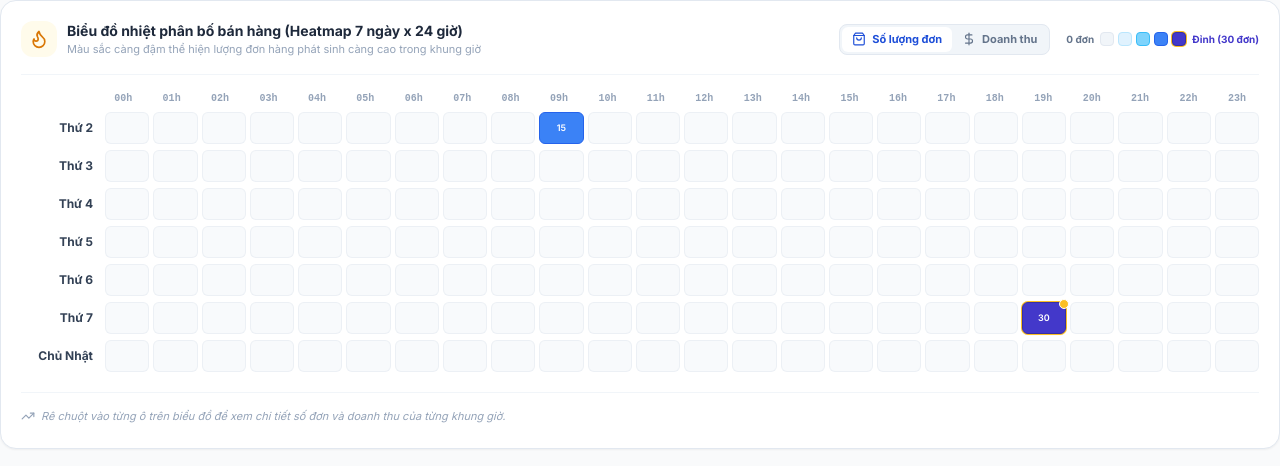
Test: NCL-18-CN-001: Peak Hours and Days Analytics Components › NCL-18-CN-001-TC-01: PeakHoursHeatmap switches between Orders and Revenue metrics
The width and height of the screenshot is (1280, 466).
Expected: the text "30" is shown, x1=1038 y1=311 x2=1050 y2=324
Expected: the text "15" is shown, x1=557 y1=121 x2=566 y2=134
// Switch to Revenue mode
Click the button "Doanh thu" at point(1000, 39), box x1=952 y1=27 x2=1047 y2=52
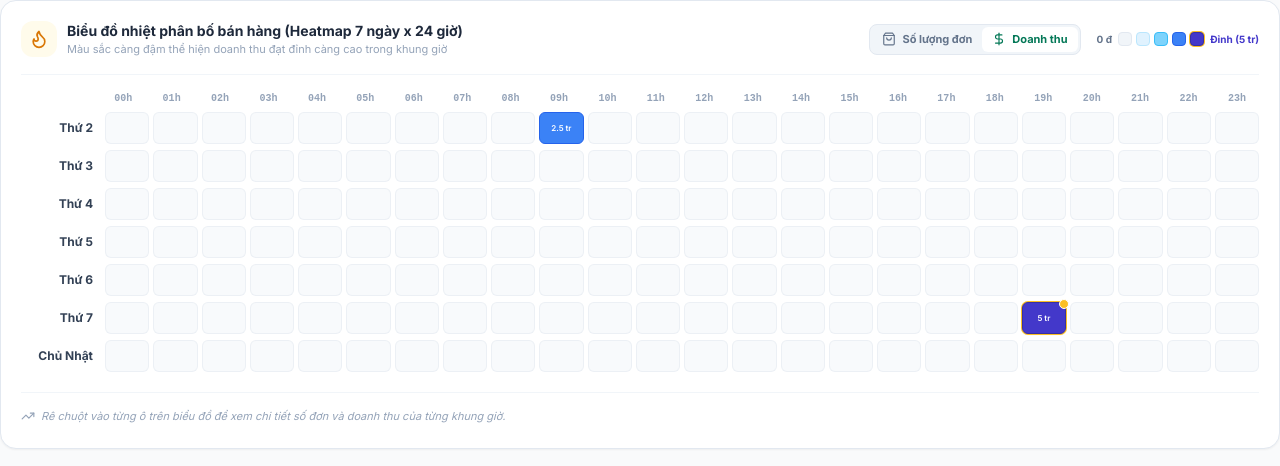
Result: the text "5 tr" is shown at x1=1037 y1=312 x2=1050 y2=322
Result: the text "2.5 tr" is shown at x1=551 y1=122 x2=572 y2=132
Result: the text "Đỉnh (5 tr)" is shown at x1=1210 y1=32 x2=1259 y2=47
// Switch back to Orders mode
Click the button "Số lượng đơn" at point(927, 39), box x1=872 y1=27 x2=982 y2=52
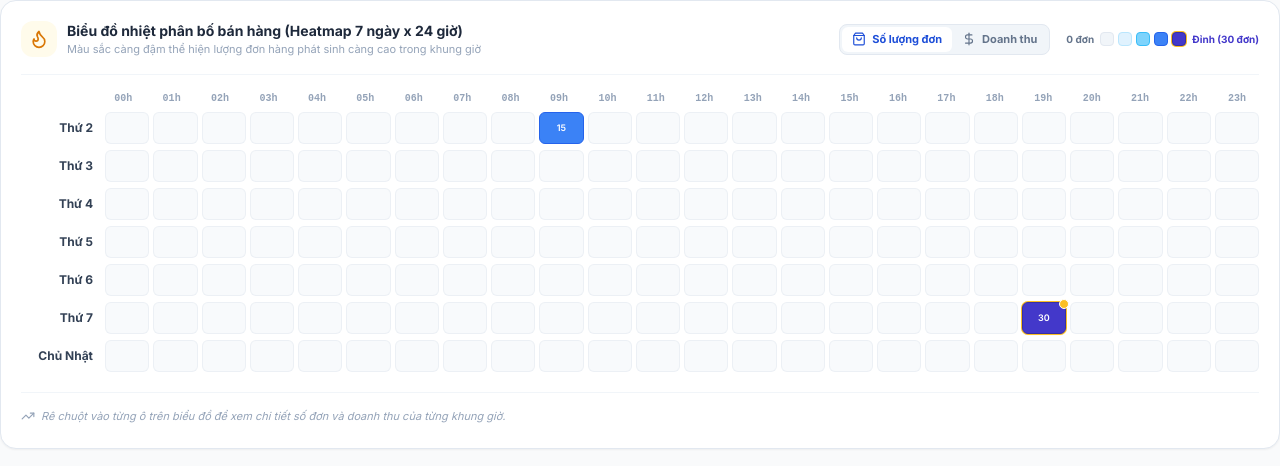
Result: the text "30" is shown at x1=1038 y1=311 x2=1050 y2=324
Result: the text "15" is shown at x1=557 y1=121 x2=566 y2=134
